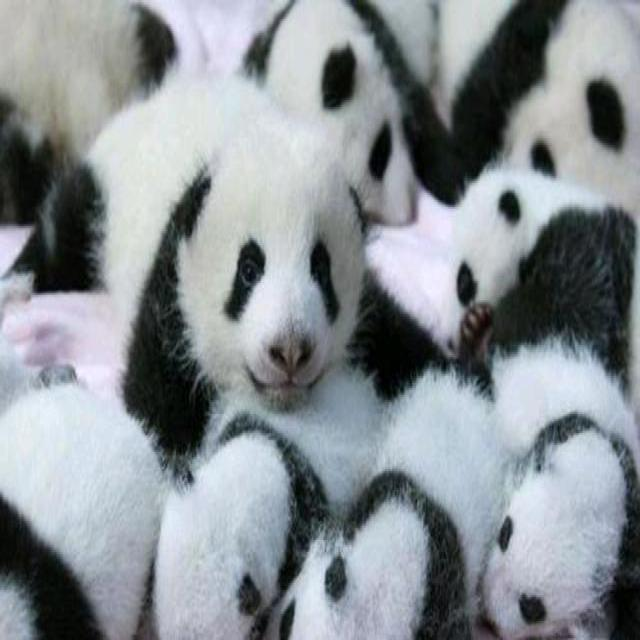panda: (28, 419, 626, 640), (128, 116, 384, 397)
